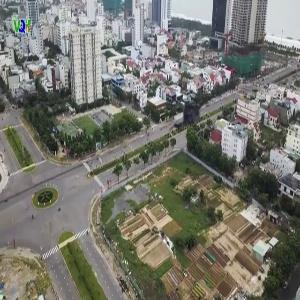drone: (162, 88, 224, 150)
